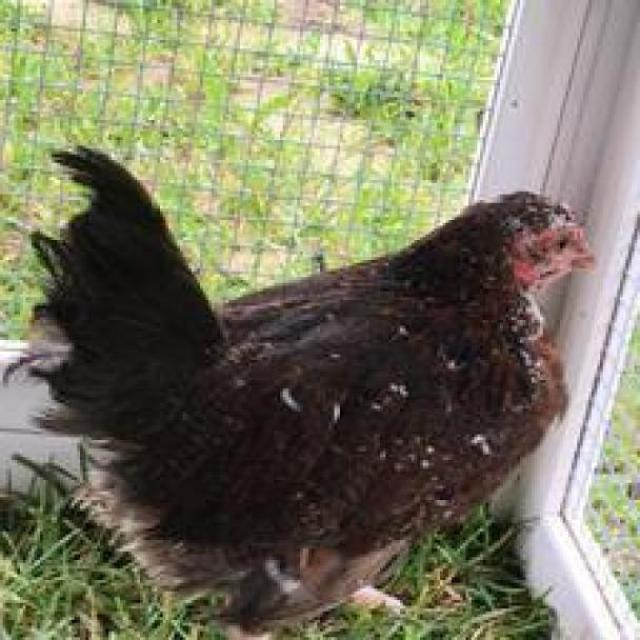Chicken: (2, 132, 640, 579)
